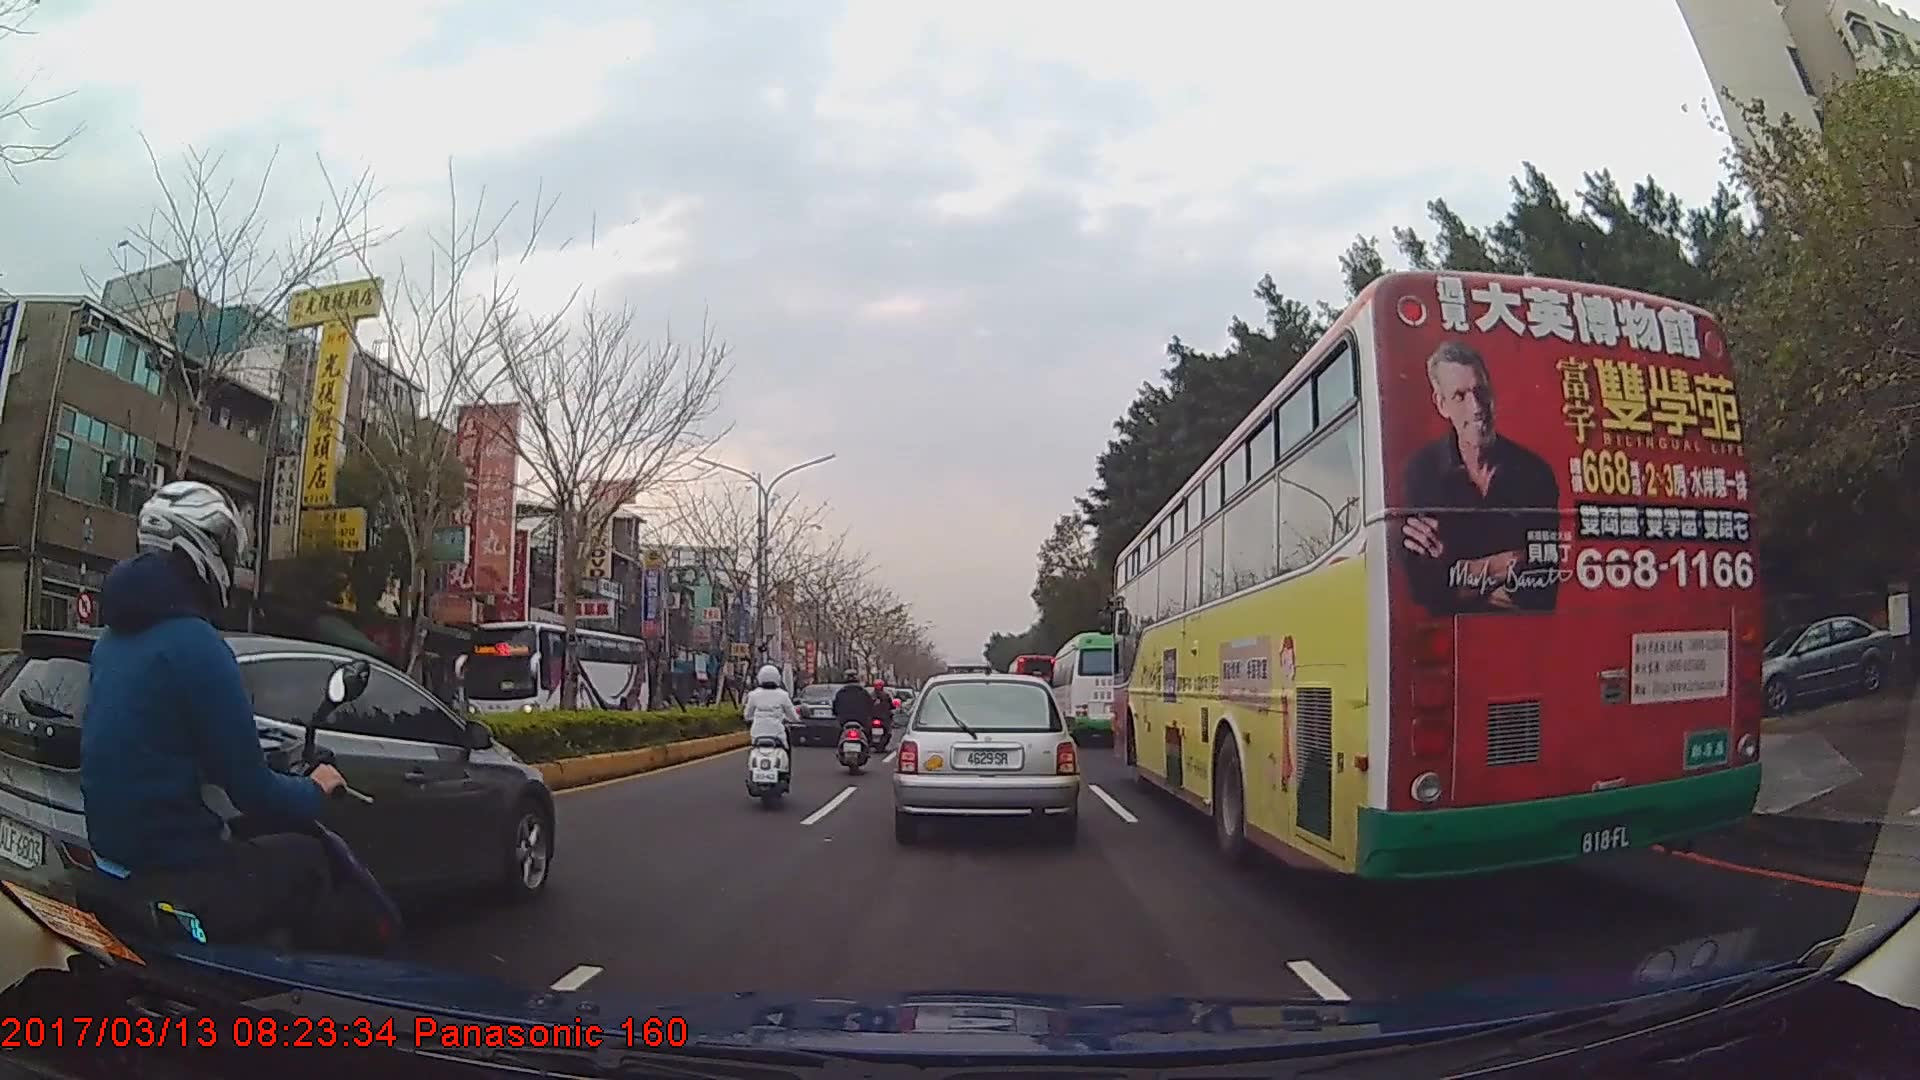rider: (1, 479, 391, 1056), (739, 661, 800, 805), (828, 669, 882, 763), (867, 678, 893, 751)
vehicle: (1107, 268, 1762, 885), (0, 626, 561, 958), (894, 671, 1077, 840), (462, 619, 649, 741), (1048, 630, 1144, 746), (789, 681, 869, 747), (1002, 650, 1057, 724)
